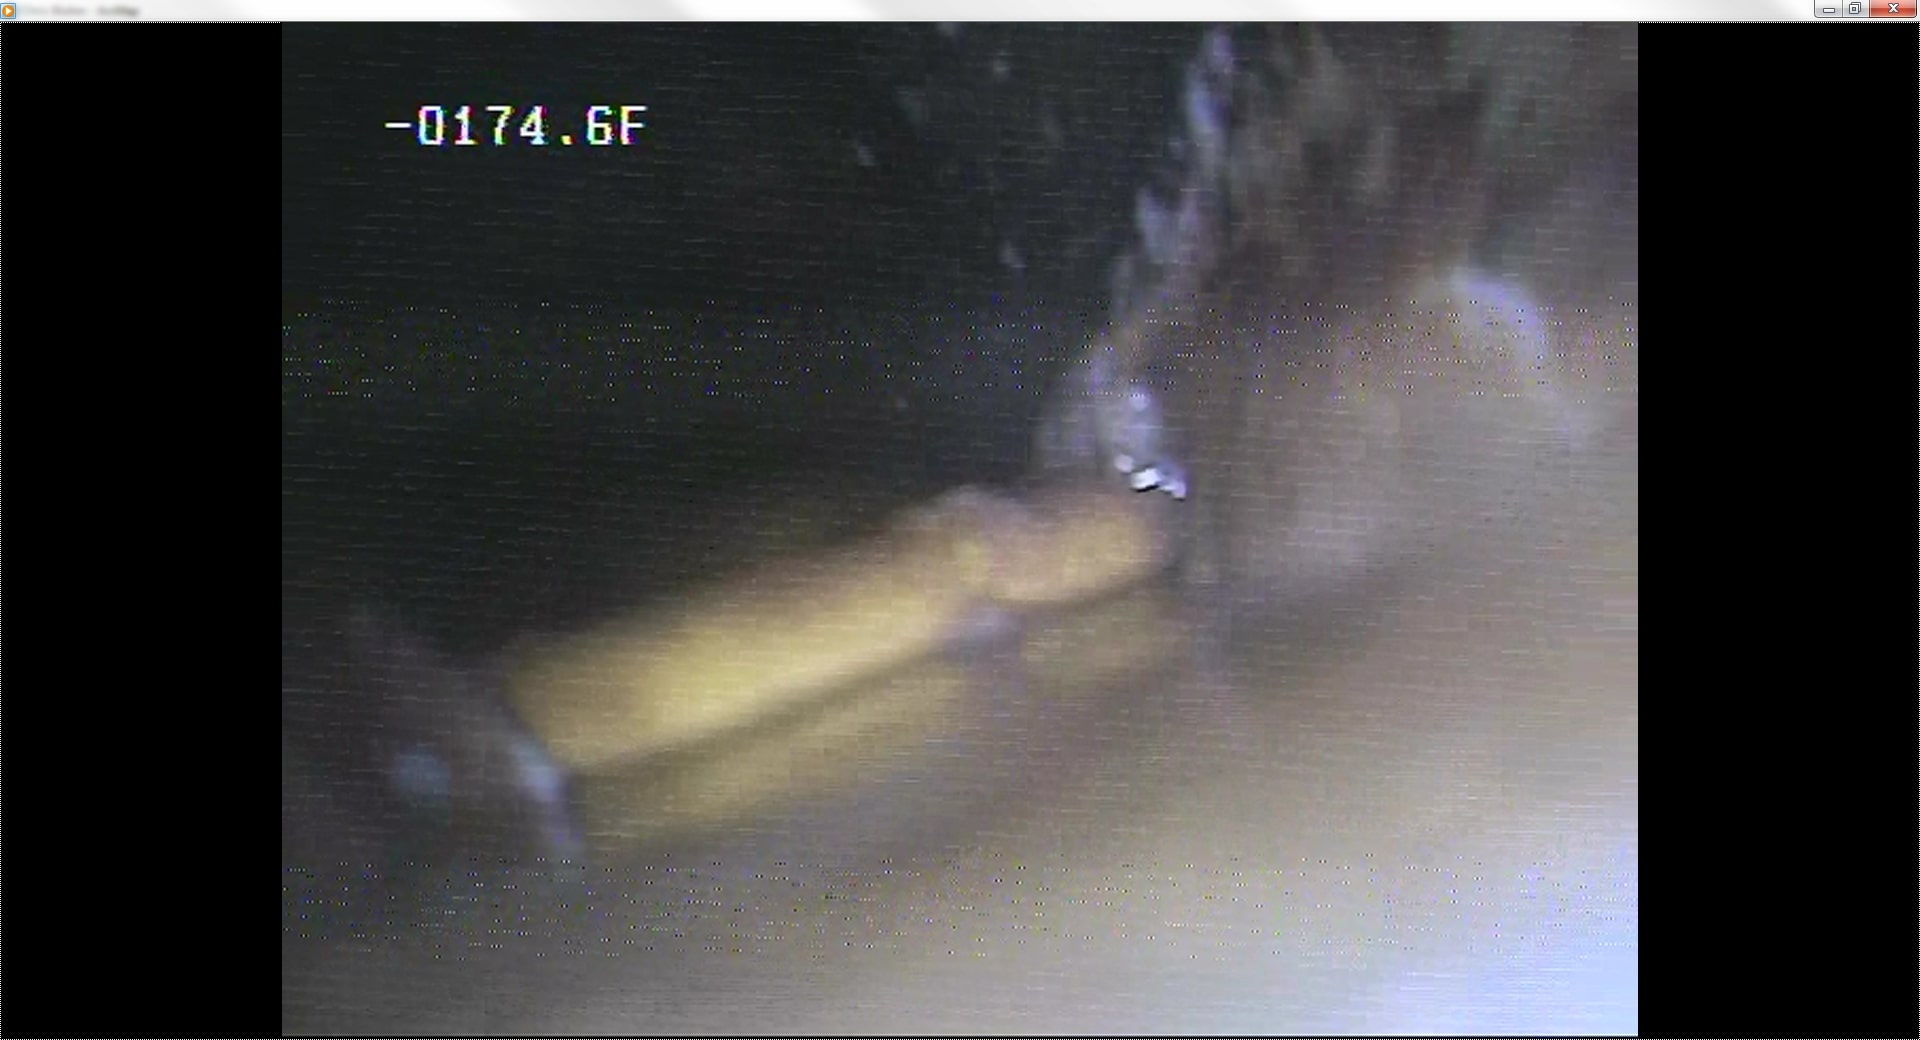cb: (390, 444, 1324, 813)
